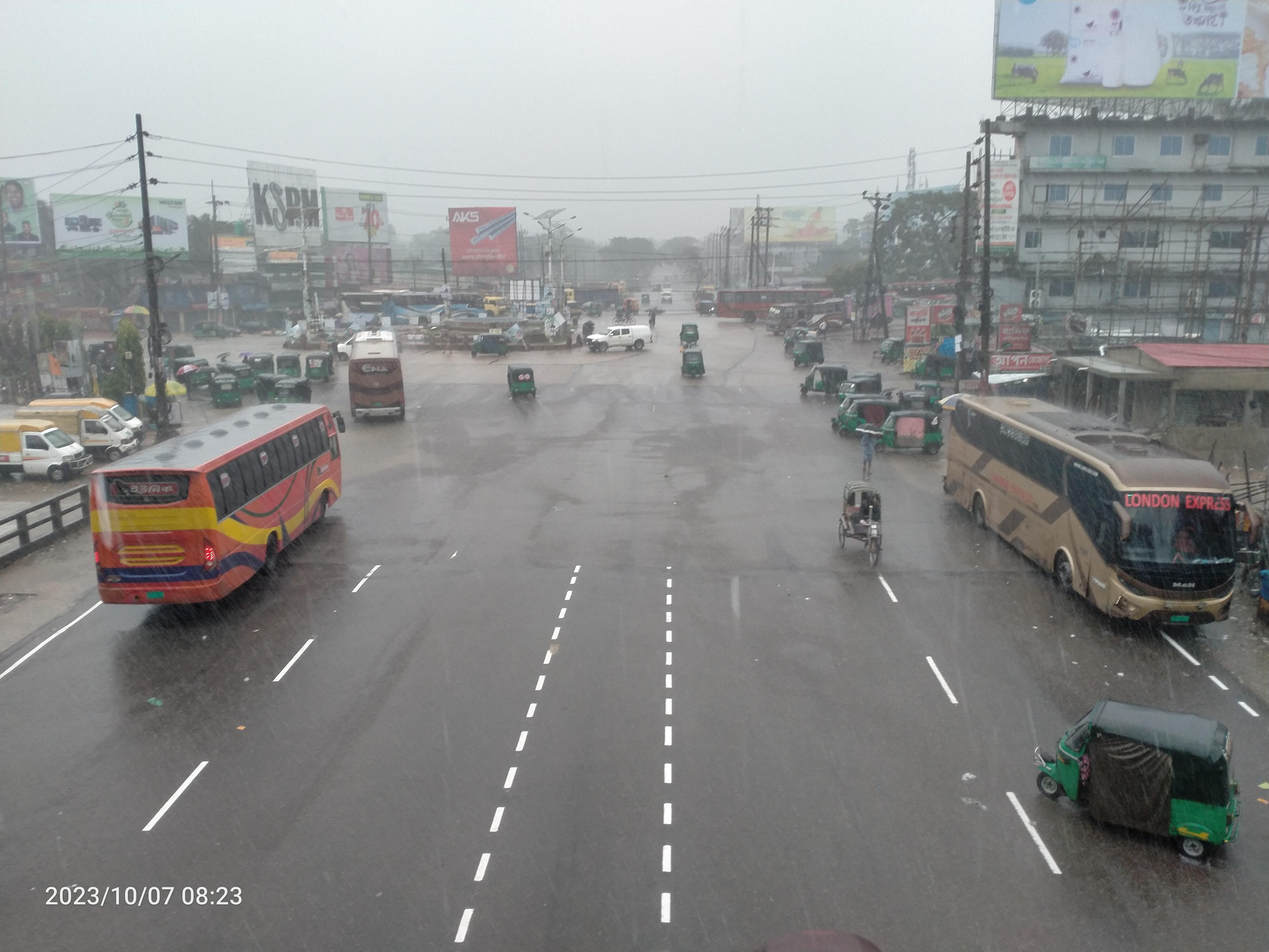Bus: (918, 365, 1269, 662), (22, 382, 387, 628), (324, 308, 443, 440), (711, 283, 855, 322), (758, 295, 859, 337)
Car: (818, 467, 900, 569), (578, 322, 663, 358), (220, 317, 245, 341), (655, 285, 678, 307)
Truck: (483, 287, 513, 321)
